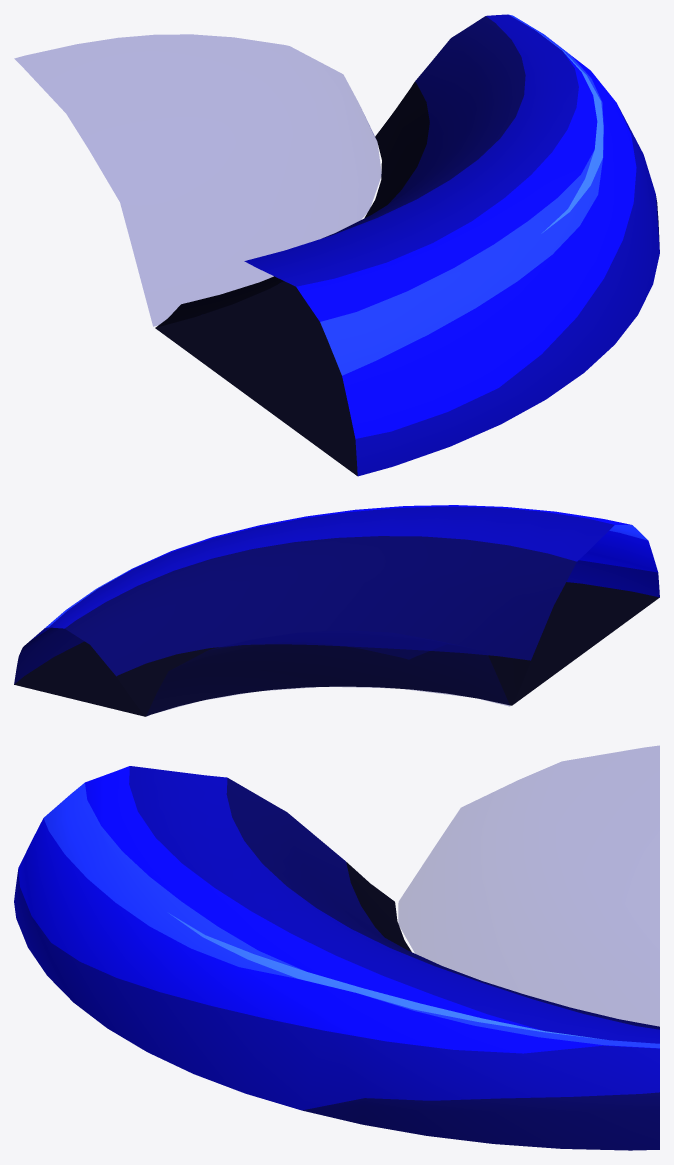
The model's file is shot_charge_259.glb.
3 renders of one model, top to bottom at view 1: azimuth 30°, elevation 25°; view 2: azimuth 150°, elevation 25°; view 3: azimuth 270°, elevation 25°, orthographic. The views are drawn at different scales.
Visible parts, largest first — view 1: charge_bubble_ring_shot_charge_259, charge_bubble_cap_shot_charge_259; view 2: charge_bubble_ring_shot_charge_259, charge_bubble_cap_shot_charge_259; view 3: charge_bubble_ring_shot_charge_259, charge_bubble_cap_shot_charge_259.
Boxes of the visible parts, x1,y1,x2,y2 form: charge_bubble_ring_shot_charge_259: [155, 14, 659, 476]; charge_bubble_cap_shot_charge_259: [15, 34, 381, 326]; charge_bubble_ring_shot_charge_259: [14, 505, 659, 716]; charge_bubble_cap_shot_charge_259: [146, 630, 509, 716]; charge_bubble_ring_shot_charge_259: [14, 766, 659, 1150]; charge_bubble_cap_shot_charge_259: [398, 746, 659, 1026].
Bounding box in the file's own units: 10 × 2.93 × 10.97.
